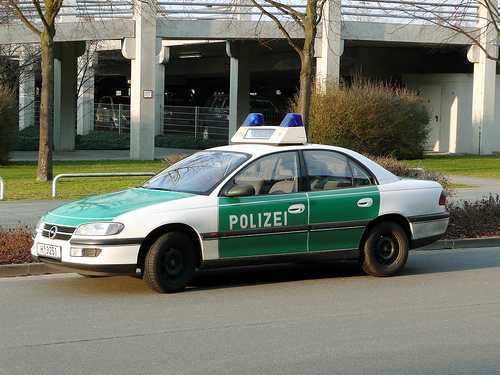Police Car: (32, 111, 458, 295)
